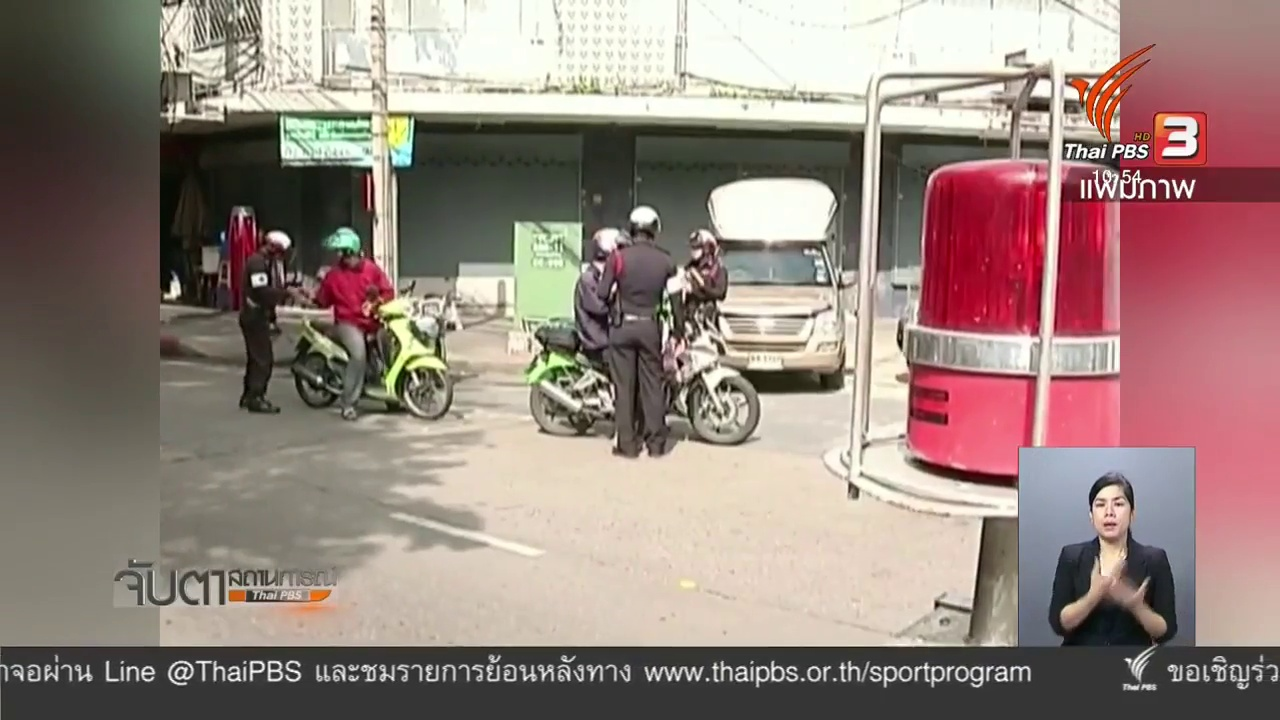helmet: (325, 220, 368, 270), (625, 200, 669, 237), (676, 217, 710, 258), (590, 217, 621, 258)
